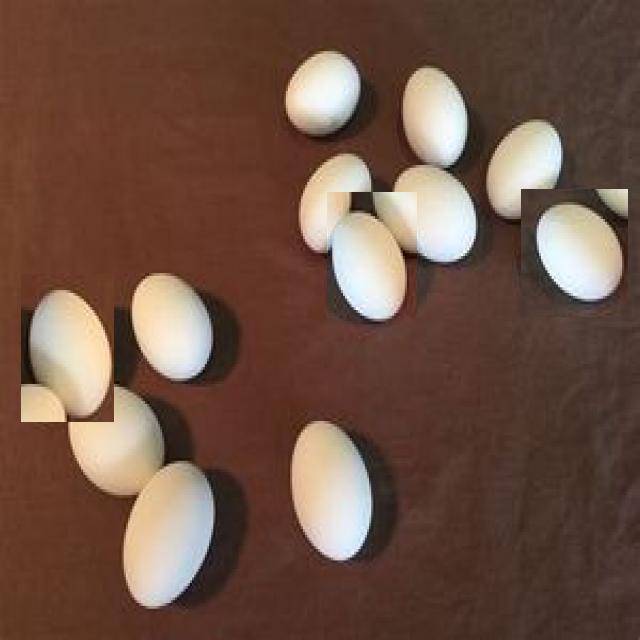Egg: (124, 242, 233, 412), (283, 399, 389, 567), (122, 446, 216, 623), (21, 274, 114, 422), (521, 189, 628, 317), (327, 192, 417, 325), (482, 107, 568, 210)
